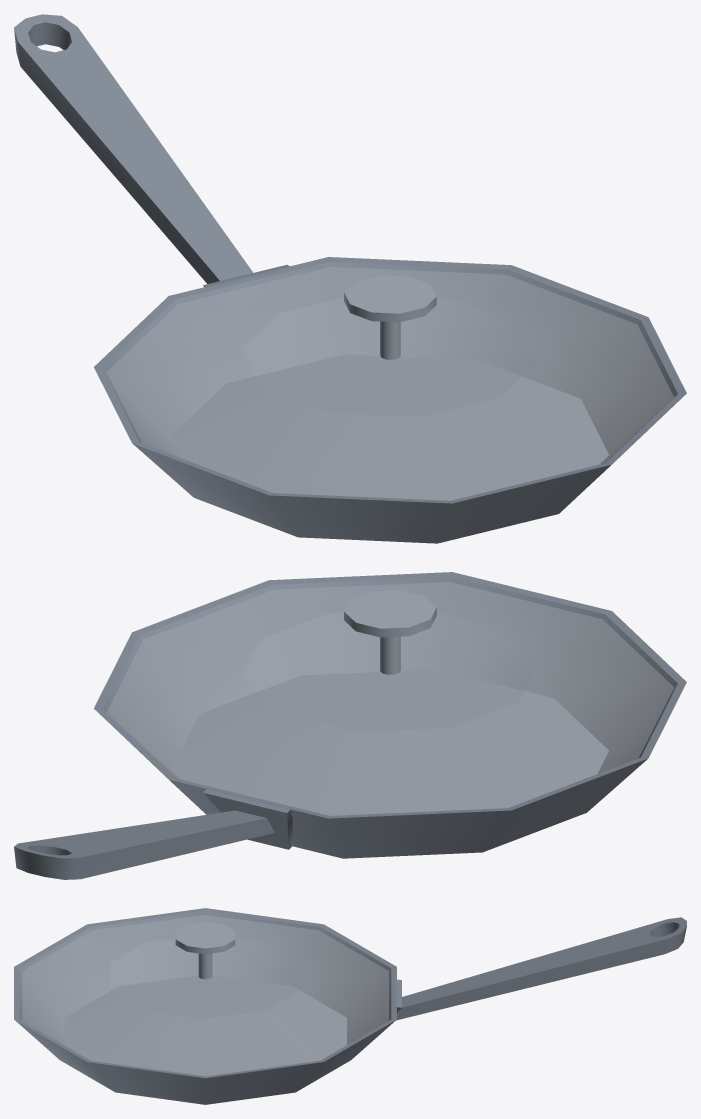
File: pan_frying_pan_002.glb
3 views of the same model, one above another, from view 1: azimuth 30°, elevation 25°; view 2: azimuth 150°, elevation 25°; view 3: azimuth 270°, elevation 25° (orthographic). The views are drawn at different scales.
Visible parts, largest first — view 1: pan frying pan.002, pan frying pan lid.002; view 2: pan frying pan.002, pan frying pan lid.002; view 3: pan frying pan.002, pan frying pan lid.002.
Boxes of the visible parts, <box> form: pan frying pan.002: <box>14,14,686,543</box>; pan frying pan lid.002: <box>107,267,673,500</box>; pan frying pan.002: <box>14,572,686,879</box>; pan frying pan lid.002: <box>107,582,673,815</box>; pan frying pan.002: <box>14,908,686,1104</box>; pan frying pan lid.002: <box>22,915,388,1075</box>.
Size of the model in its own units: 4.37 by 1.39 by 7.29.
Materials: 2 (2 with a texture image).
